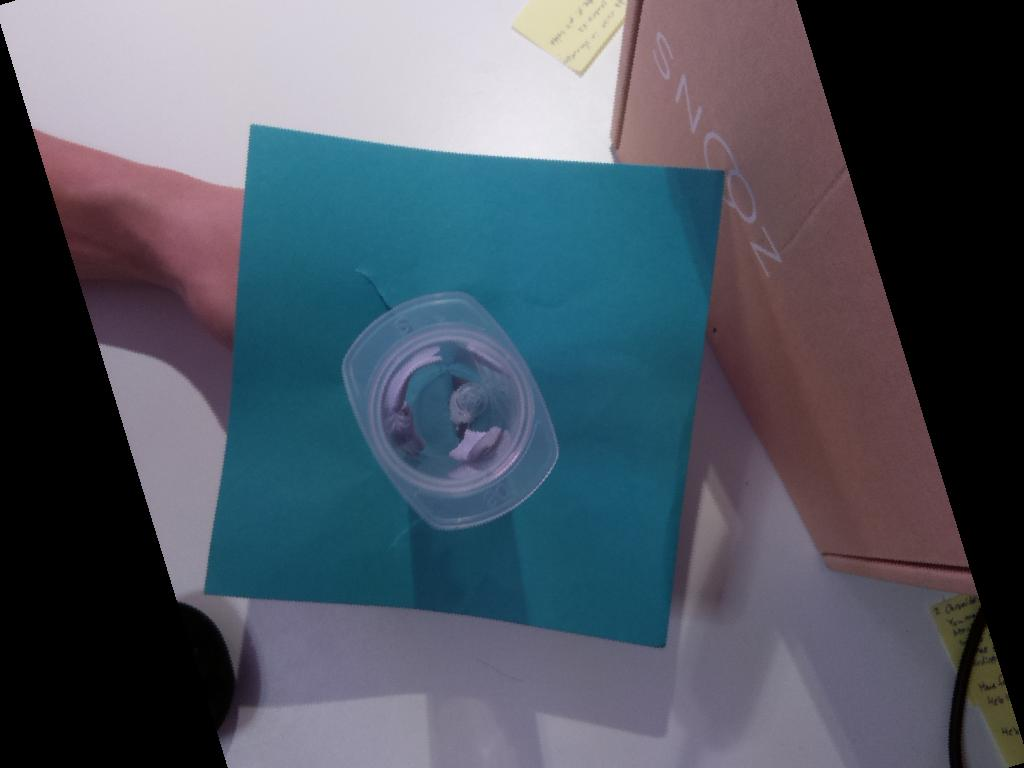dirty: (338, 289, 560, 531)
